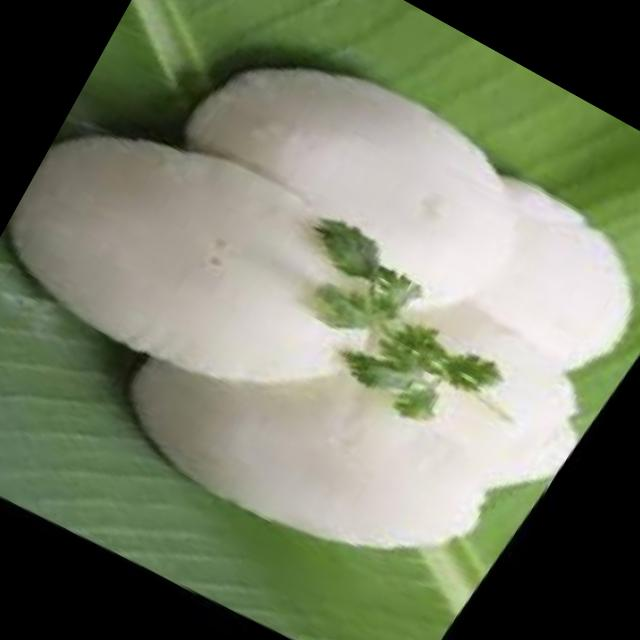idli: (0, 77, 425, 460), (142, 6, 564, 373), (101, 276, 526, 624), (323, 266, 624, 532), (414, 161, 640, 405)
